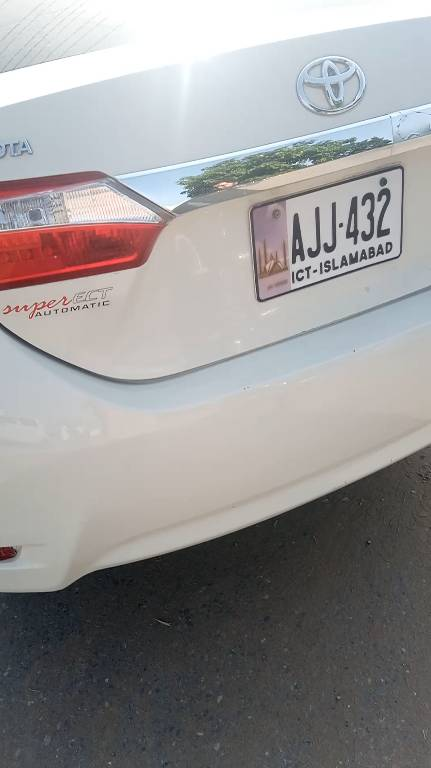number_plate: (241, 177, 431, 291)
